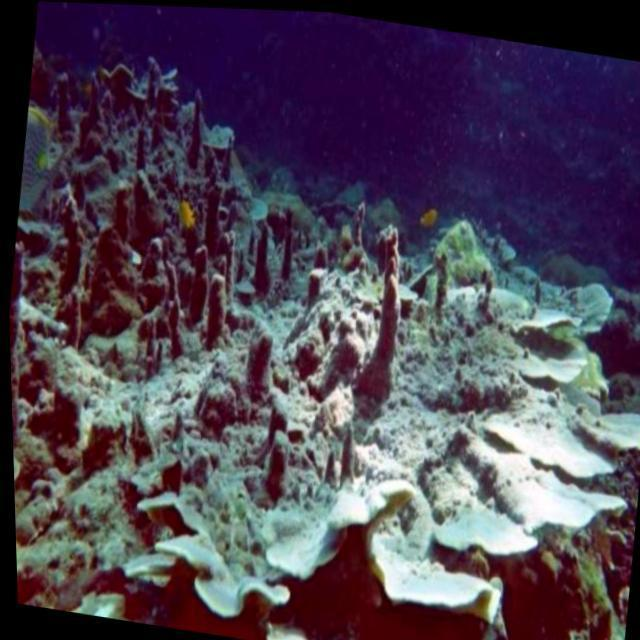Dead Coral: (4, 161, 640, 640), (182, 194, 413, 530), (1, 34, 231, 355)
